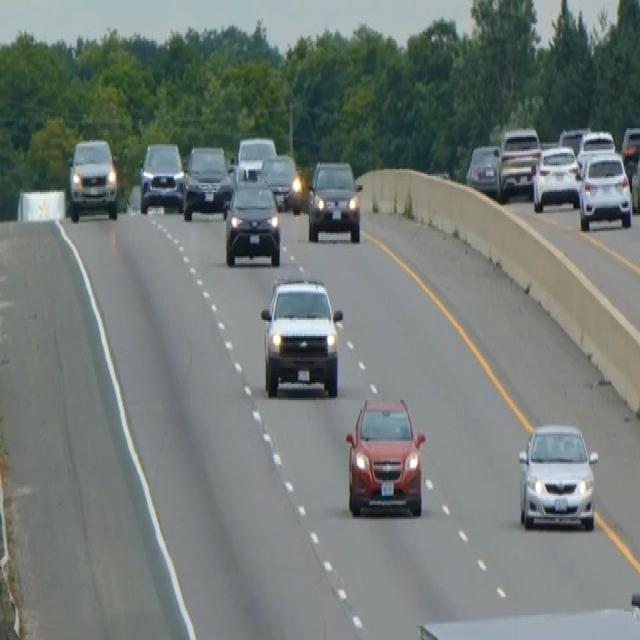car: (344, 393, 425, 517), (517, 419, 599, 532), (223, 176, 281, 267), (306, 158, 362, 242), (578, 149, 632, 231), (182, 142, 232, 220), (532, 142, 581, 212), (139, 140, 185, 213), (496, 125, 541, 198), (260, 151, 302, 213), (465, 142, 500, 196), (577, 128, 615, 171), (235, 135, 276, 173), (620, 125, 639, 187), (558, 125, 589, 156), (631, 142, 639, 212)
jeep: (259, 274, 344, 398), (66, 135, 119, 222)
